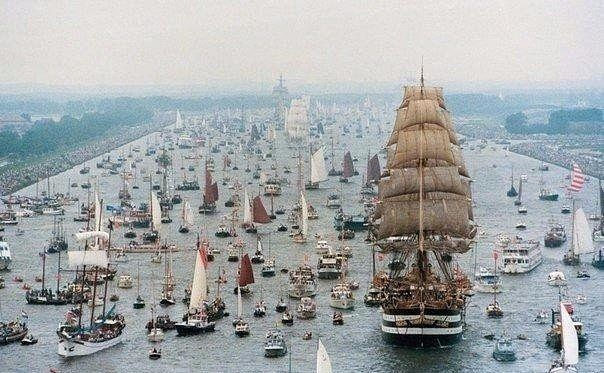fanchuan: (369, 55, 479, 346)
